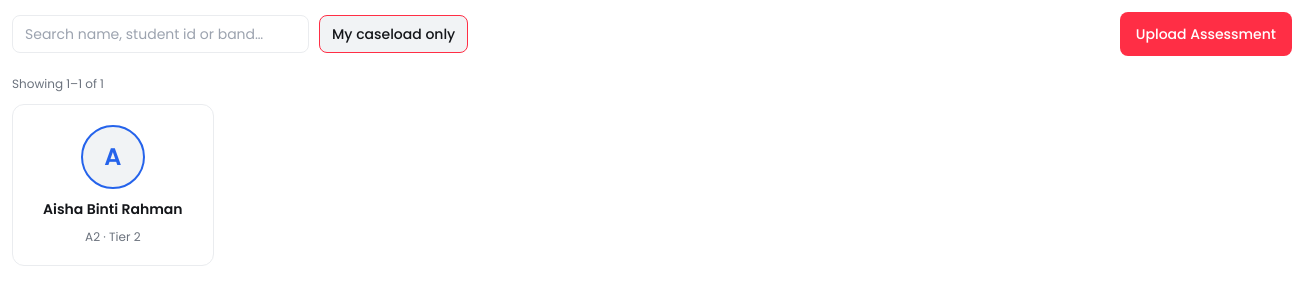
Scenario: UT-2.60: an empty result says so rather than rendering a bare grid
The width and height of the screenshot is (1304, 283).
Type "zzz" into the field labelled "Search name, student id or band…" at (160, 34), box [25,24,296,44]
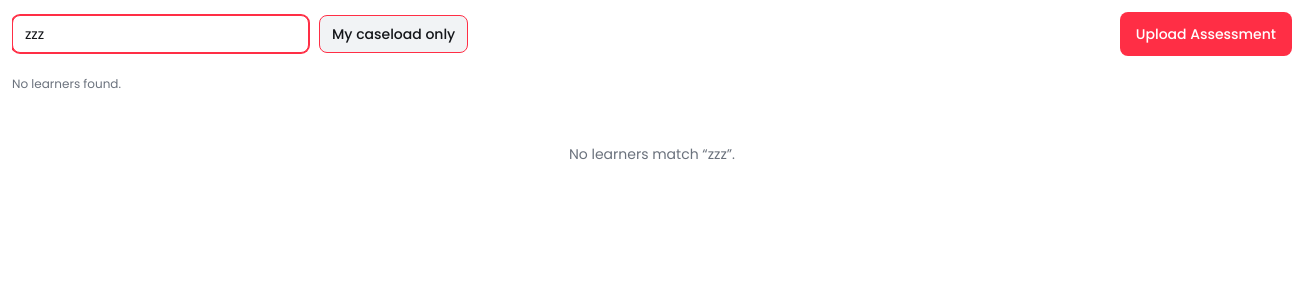
Check: the text "No learners match “zzz”." is shown, box [569,144,735,164]
